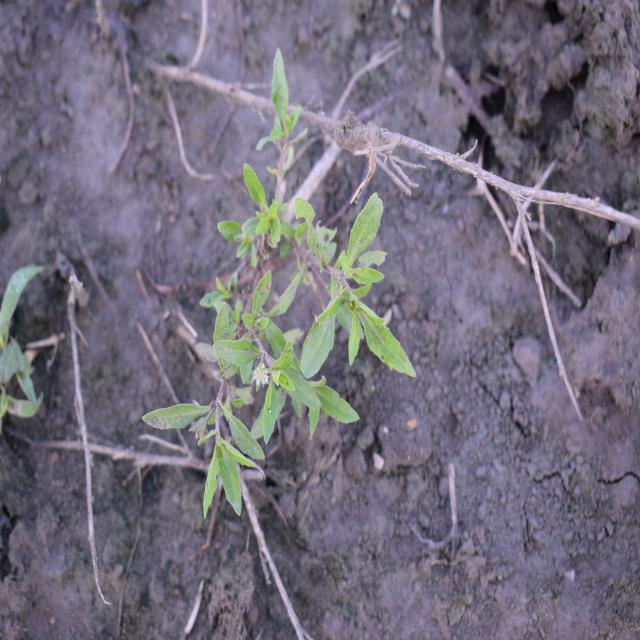Eclipta: (140, 47, 419, 522)
